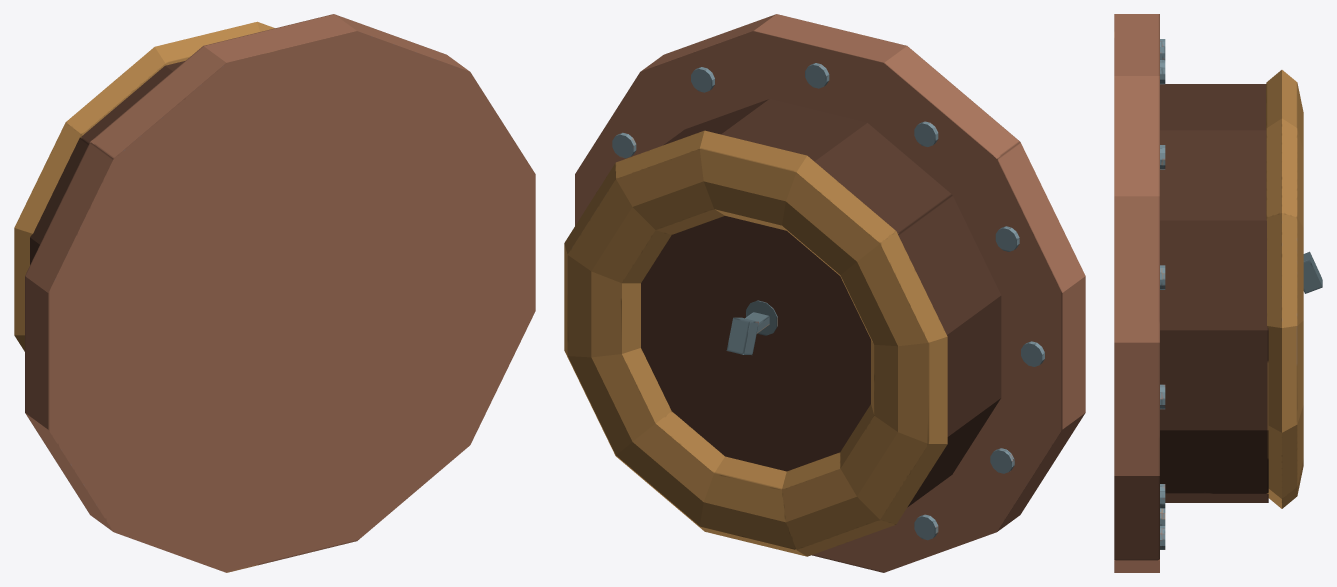
Rendered from tap.obj.
The picture shows the model from 3 angles, left to right: view 1: azimuth 30°, elevation 25°; view 2: azimuth 150°, elevation 25°; view 3: azimuth 270°, elevation 25°; orthographic projection. The views are drawn at different scales.
Parts seen in each view (by area): view 1: cylinder, torus; view 2: cylinder, torus, cube; view 3: cylinder, torus, cube.
Part boxes in pixels (bbox=[...]): cylinder: bbox=[25, 14, 535, 572]; torus: bbox=[14, 21, 274, 351]; cylinder: bbox=[575, 14, 1085, 572]; torus: bbox=[564, 130, 947, 556]; cube: bbox=[726, 312, 769, 354]; cylinder: bbox=[1114, 14, 1268, 572]; torus: bbox=[1266, 70, 1303, 508]; cube: bbox=[1303, 251, 1322, 293].
Size of the model in its own units: 9.6 by 9.6 by 3.65.
